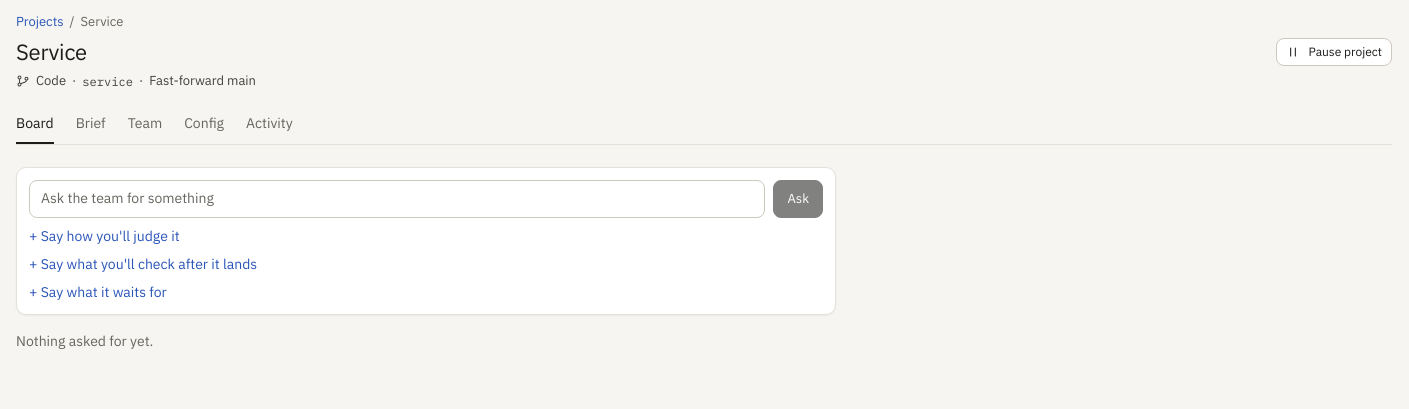
Test: project pause › keeps the state and shows a failed request
Step 1. Click the button "Pause project" → (1334, 52), box x1=1276 y1=38 x2=1392 y2=66
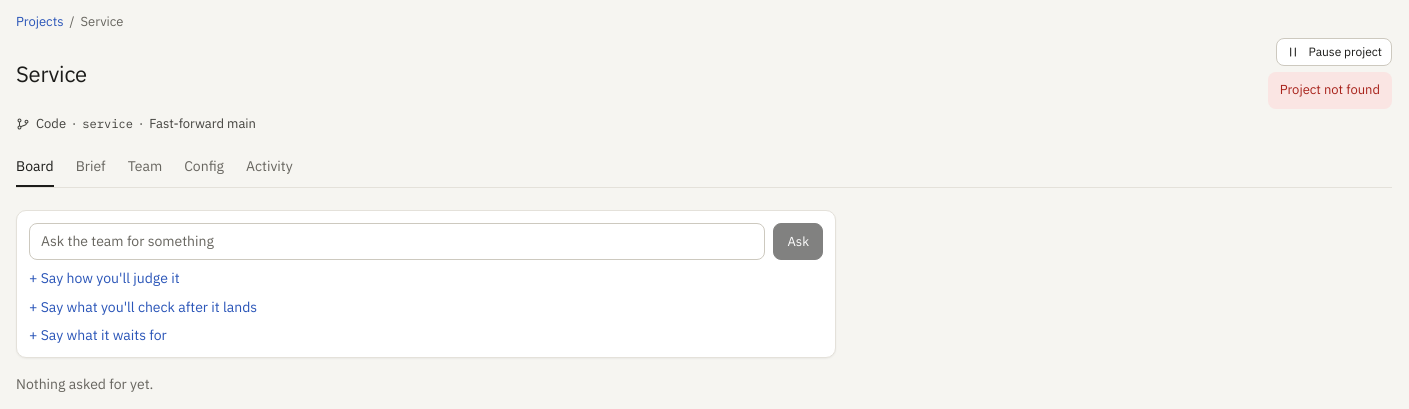
expect the text "Project not found" is shown: met, box x1=1268 y1=72 x2=1392 y2=109
